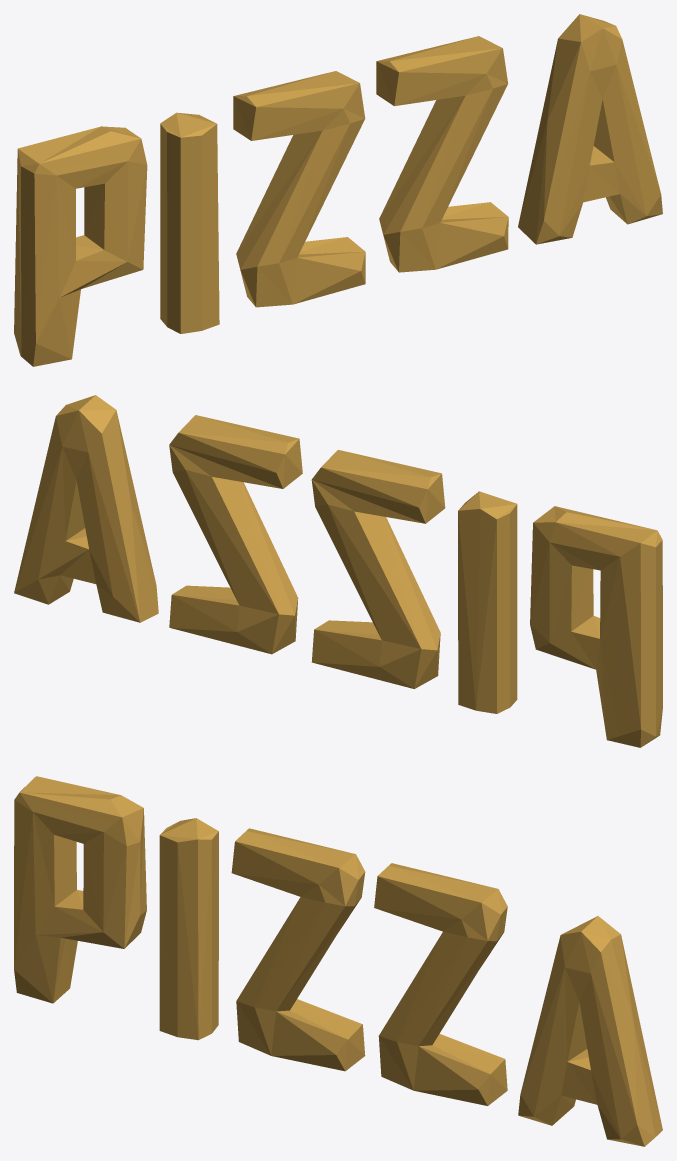
File: SM_Prop_Sign_Pizza_01.glb
The picture shows the model from 3 angles, top to bottom: view 1: azimuth 30°, elevation 25°; view 2: azimuth 150°, elevation 25°; view 3: azimuth 330°, elevation 25°; orthographic projection.
Parts seen in each view (by area): view 1: SM_Prop_Sign_Pizza_01; view 2: SM_Prop_Sign_Pizza_01; view 3: SM_Prop_Sign_Pizza_01.
Boxes of the visible parts, <box> form: SM_Prop_Sign_Pizza_01: <box>14,14,662,366</box>; SM_Prop_Sign_Pizza_01: <box>14,395,662,747</box>; SM_Prop_Sign_Pizza_01: <box>14,776,662,1146</box>.
Size of the model in its own units: 0.0221 by 0.00704 by 0.00144.
1 material, 1 textured.
